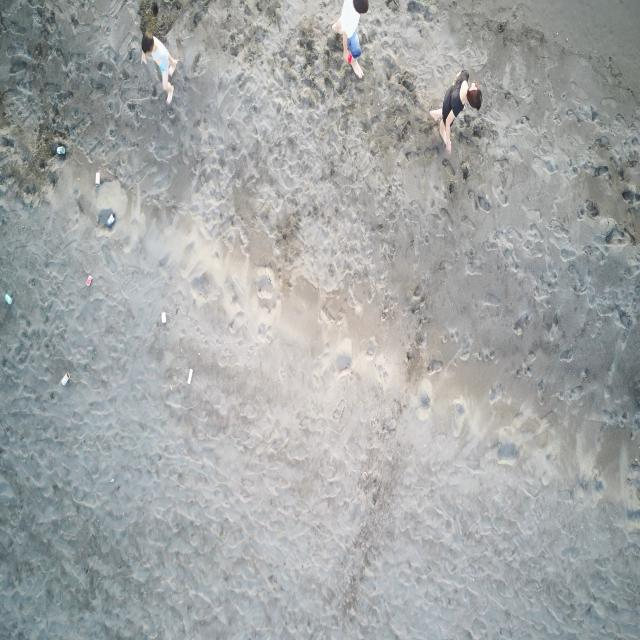tin-and-aluminum-cans: (61, 372, 70, 386), (186, 368, 193, 386), (107, 213, 115, 227), (4, 293, 12, 305), (161, 310, 167, 325), (94, 172, 100, 187), (86, 275, 92, 288), (57, 146, 65, 155)
